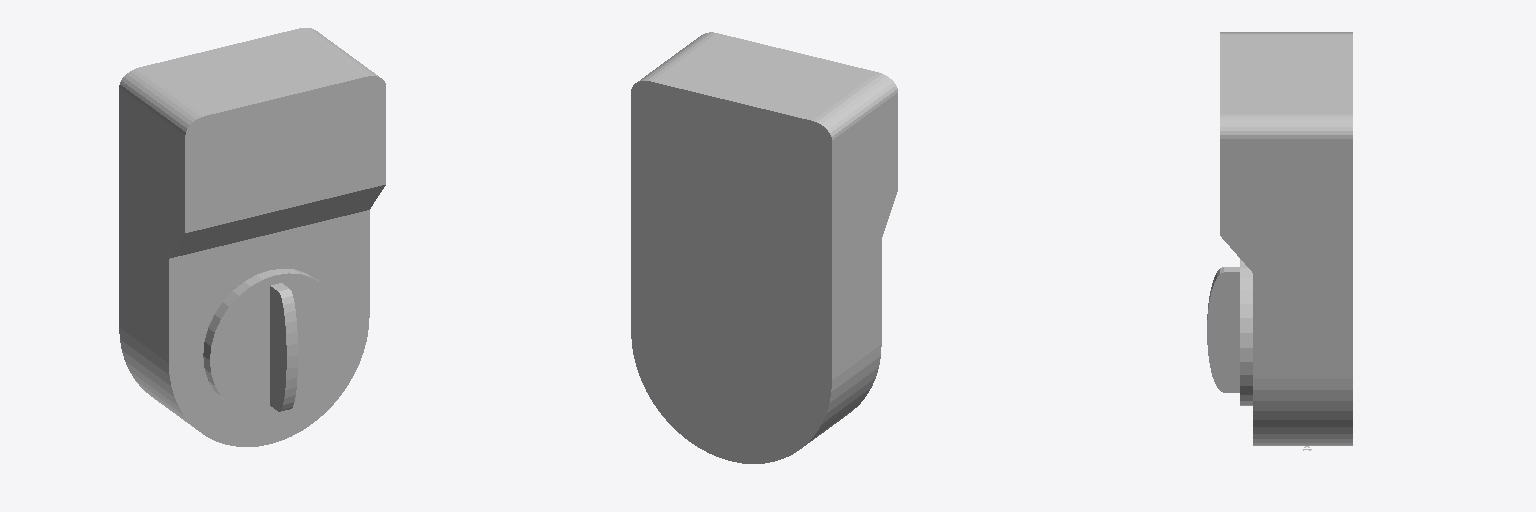
File: switch.obj
3 renders of one model, left to right at view 1: azimuth 30°, elevation 25°; view 2: azimuth 150°, elevation 25°; view 3: azimuth 270°, elevation 25°, orthographic.
Visible parts, largest first — view 1: Cylinder; view 2: Cylinder; view 3: Cylinder.
Part boxes in pixels (left/top/right/bottom): Cylinder: left=119, top=28, right=385, bottom=446; Cylinder: left=631, top=32, right=897, bottom=463; Cylinder: left=1207, top=32, right=1352, bottom=445.
Size of the model in its own units: 14 by 24.18 by 8.8.